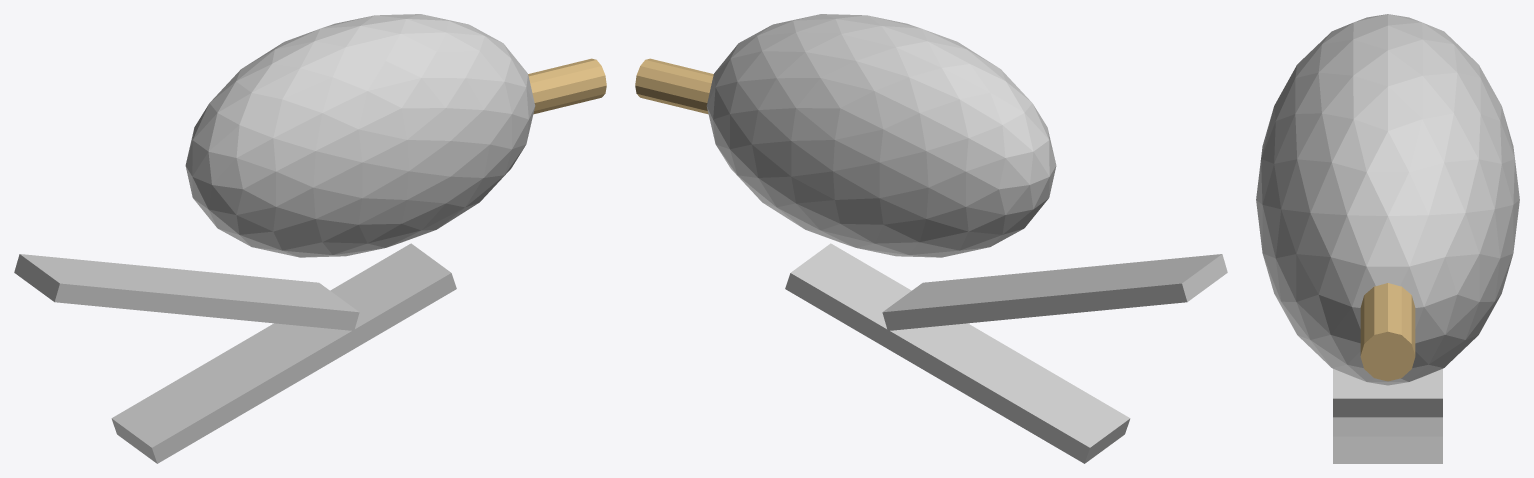
File: seagull_midpoly.glb
The picture shows the model from 3 angles, left to right: view 1: azimuth 30°, elevation 25°; view 2: azimuth 150°, elevation 25°; view 3: azimuth 270°, elevation 25°; orthographic projection. The views are drawn at different scales.
Visible parts, largest first — view 1: body, rwing, lwing, beak; view 2: body, rwing, lwing, beak; view 3: body, rwing, beak, lwing.
Boxes of the visible parts, left/top/right/bottom form: body: left=185, top=14, right=535, bottom=257; rwing: left=111, top=243, right=456, bottom=463; lwing: left=14, top=254, right=359, bottom=330; beak: left=528, top=58, right=606, bottom=114; body: left=706, top=14, right=1056, bottom=257; rwing: left=785, top=243, right=1130, bottom=463; lwing: left=882, top=254, right=1227, bottom=330; beak: left=635, top=58, right=713, bottom=114; body: left=1256, top=14, right=1519, bottom=385; rwing: left=1333, top=417, right=1442, bottom=463; beak: left=1360, top=283, right=1415, bottom=381; lwing: left=1333, top=369, right=1442, bottom=417.
Bounding box in the file's own units: 0.6426 × 0.4027 × 0.192.
